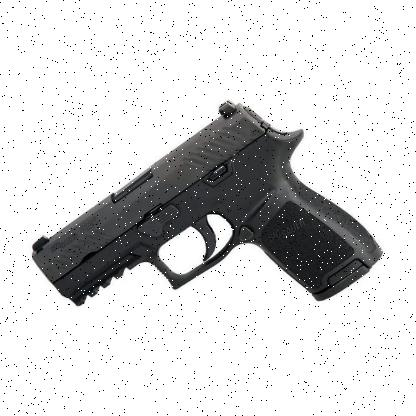gun: (28, 98, 382, 318)
